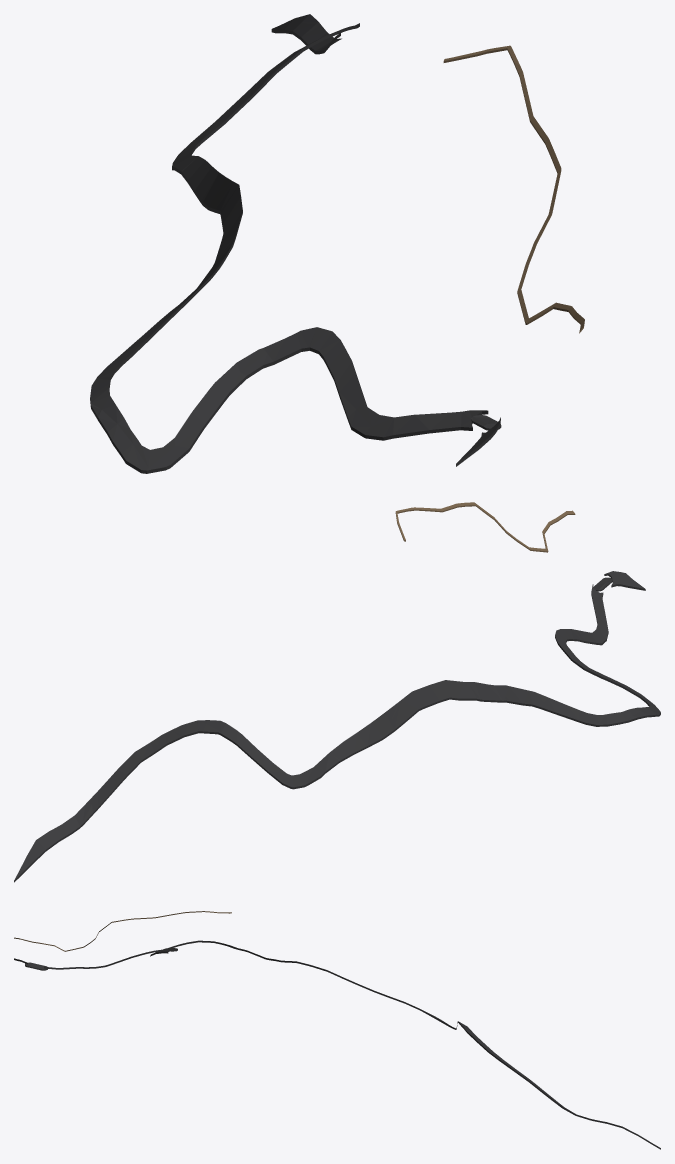
The picture shows the model from 3 angles, top to bottom: view 1: azimuth 30°, elevation 25°; view 2: azimuth 150°, elevation 25°; view 3: azimuth 270°, elevation 25°; orthographic projection. The views are drawn at different scales.
Size of the model in its own units: 238 by 132 by 417.
